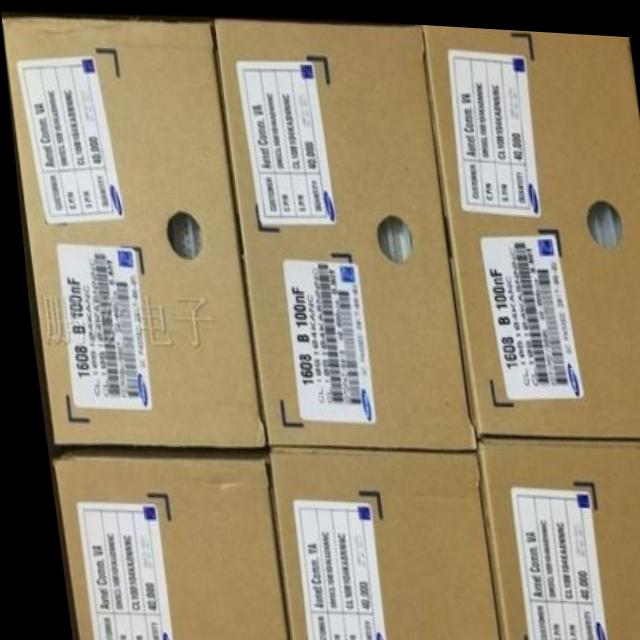box: (214, 16, 471, 444), (1, 18, 257, 445), (419, 20, 640, 433), (257, 444, 490, 640), (45, 447, 277, 640), (469, 433, 640, 640)
